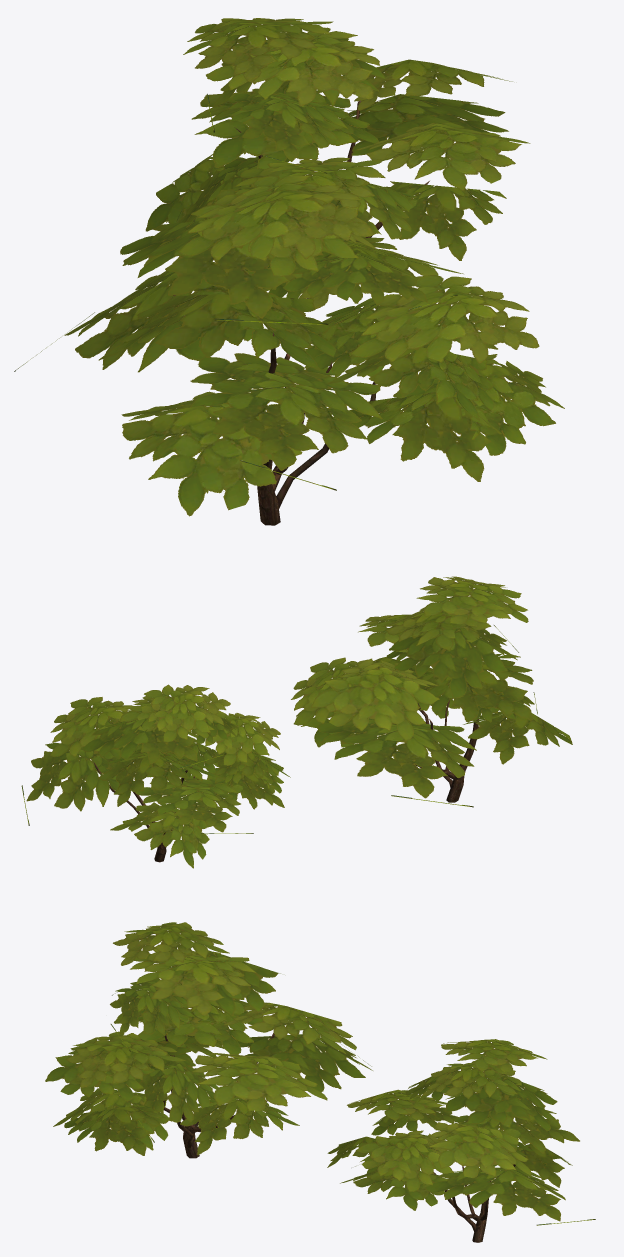
Rendered from map_112_guanmu_3.fbx.
3 views of the same model, one above another, from view 1: azimuth 30°, elevation 25°; view 2: azimuth 150°, elevation 25°; view 3: azimuth 270°, elevation 25° (orthographic). The views are drawn at different scales.
Parts seen in each view (by area): view 1: map_112_shu_13; view 2: map_112_shu_13; view 3: map_112_shu_13.
Part boxes in pixels (x1=…): map_112_shu_13: x1=14, y1=18, x2=564, y2=525; map_112_shu_13: x1=21, y1=576, x2=572, y2=868; map_112_shu_13: x1=45, y1=922, x2=595, y2=1242.
Size of the model in its own units: 1.73 by 0.7926 by 1.92.
